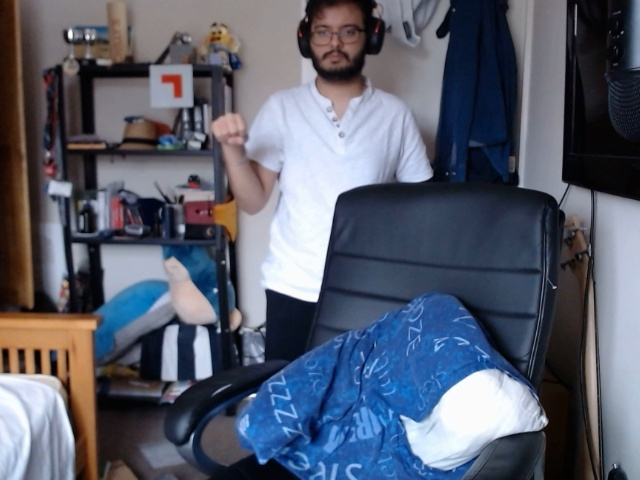Yes: (205, 112, 253, 149)
